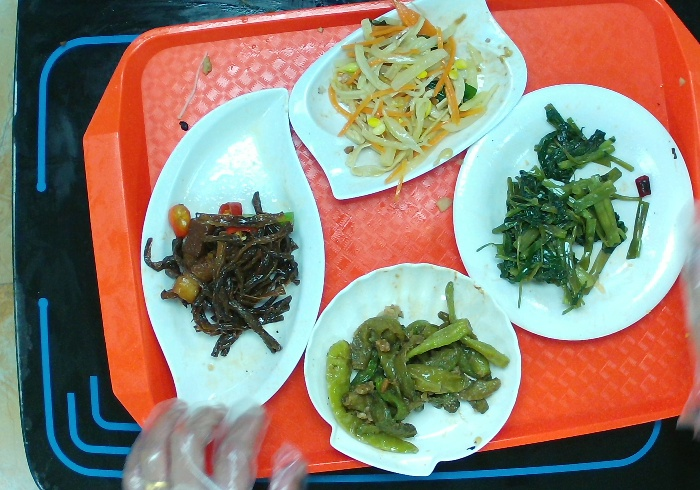RJxy-Bei_Ke_Wan: (302, 264, 520, 472)
RJxy-Jian_Jiao_Fang_Die: (287, 1, 530, 202)
RJxy-Jian_Jiao_Pan: (140, 83, 324, 447)
RJxy-Yuan_Pan: (452, 70, 700, 342)
